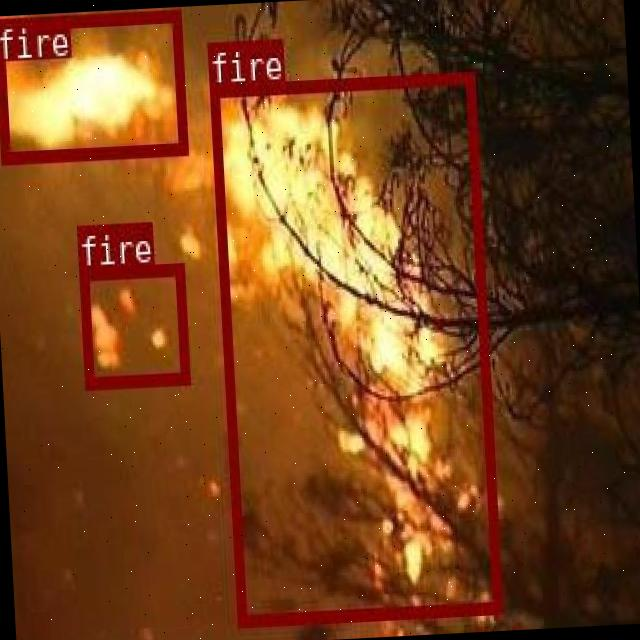fire: (208, 72, 501, 626), (0, 6, 186, 161), (78, 264, 189, 386)
